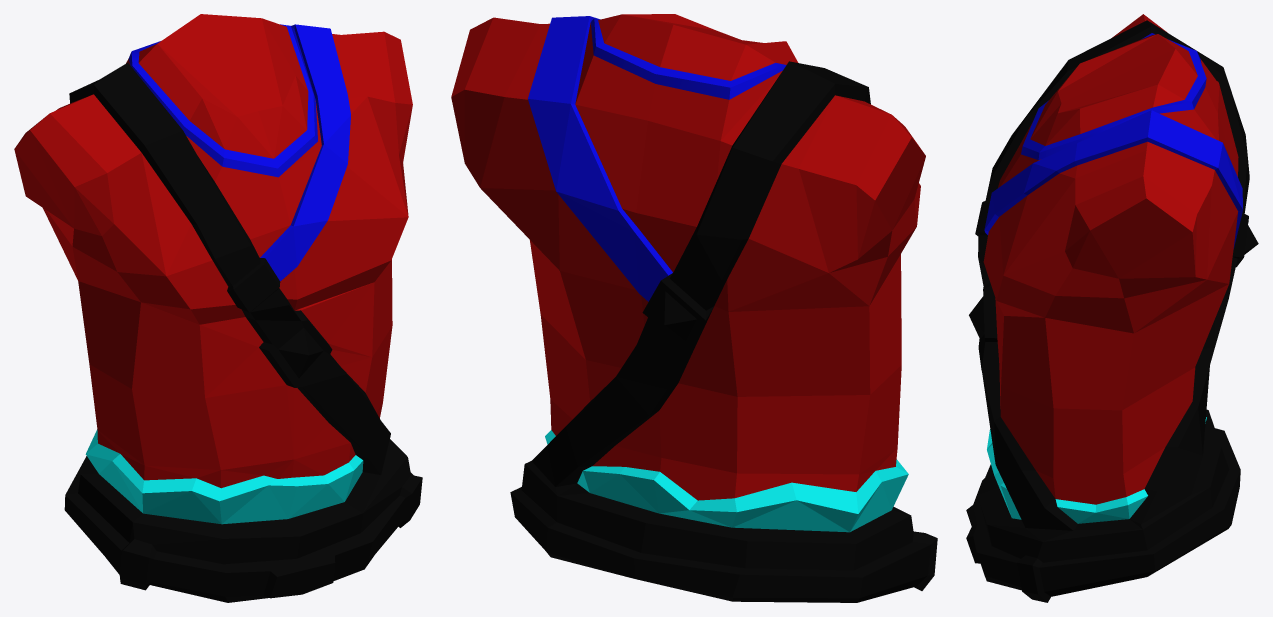
The model's file is Chr_Torso_Male_Static_01.fbx.
3 views of the same model, side by side, from view 1: azimuth 30°, elevation 25°; view 2: azimuth 150°, elevation 25°; view 3: azimuth 270°, elevation 25° (orthographic). The views are drawn at different scales.
Parts seen in each view (by area): view 1: Chr_Torso_Male_01; view 2: Chr_Torso_Male_01; view 3: Chr_Torso_Male_01.
Boxes of the visible parts, bbox=[...] form: Chr_Torso_Male_01: bbox=[14, 14, 422, 602]; Chr_Torso_Male_01: bbox=[451, 14, 937, 602]; Chr_Torso_Male_01: bbox=[966, 14, 1258, 602].
Size of the model in its own units: 49.44 by 64.78 by 34.01.
